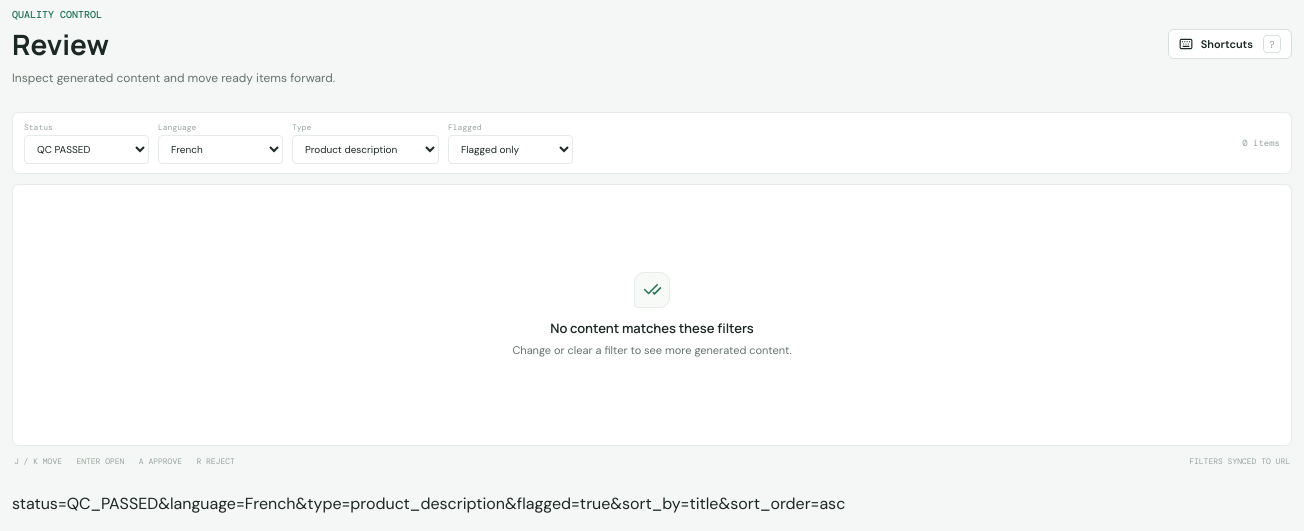
review filters › hydrates controls from URL params and merges changes back into the URL
Check: the heading "No content matches these filters" is shown, box [550,319,754,337]
Check: the dropdown named "Filter by status" shows "QC PASSED", box [24,135,149,164]
Select "Not flagged" in the dropdown named "Filter by flagged state". click: (510, 150)
box: [448,135,573,164]
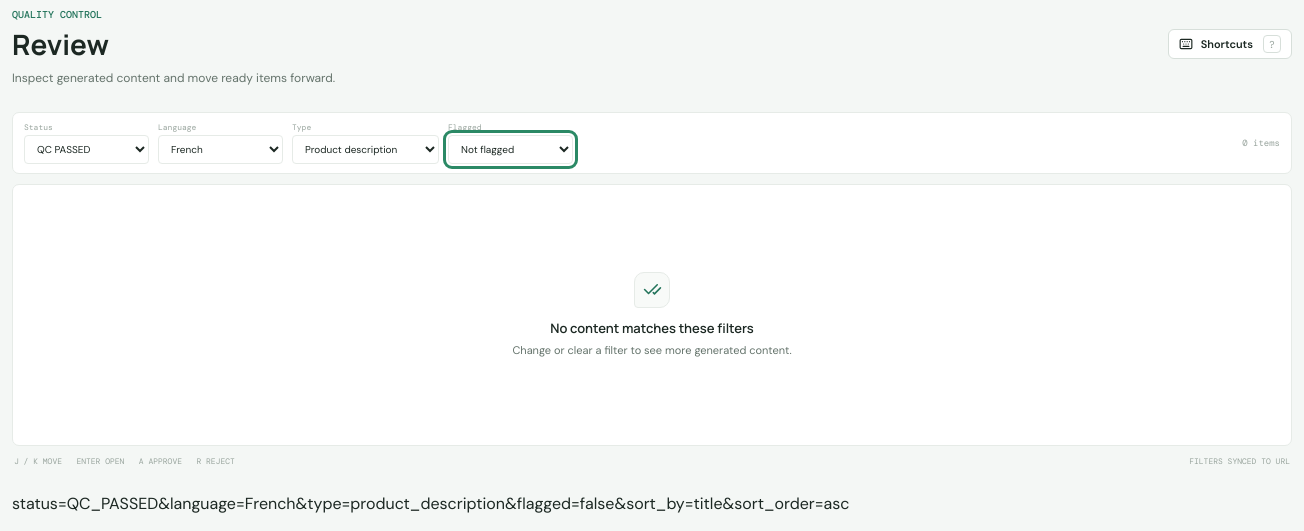
Check: the text with test id "search-params" shows "status=QC_PASSED", box [12,493,849,514]
Check: the text with test id "search-params" shows "flagged=false", box [12,493,849,514]
